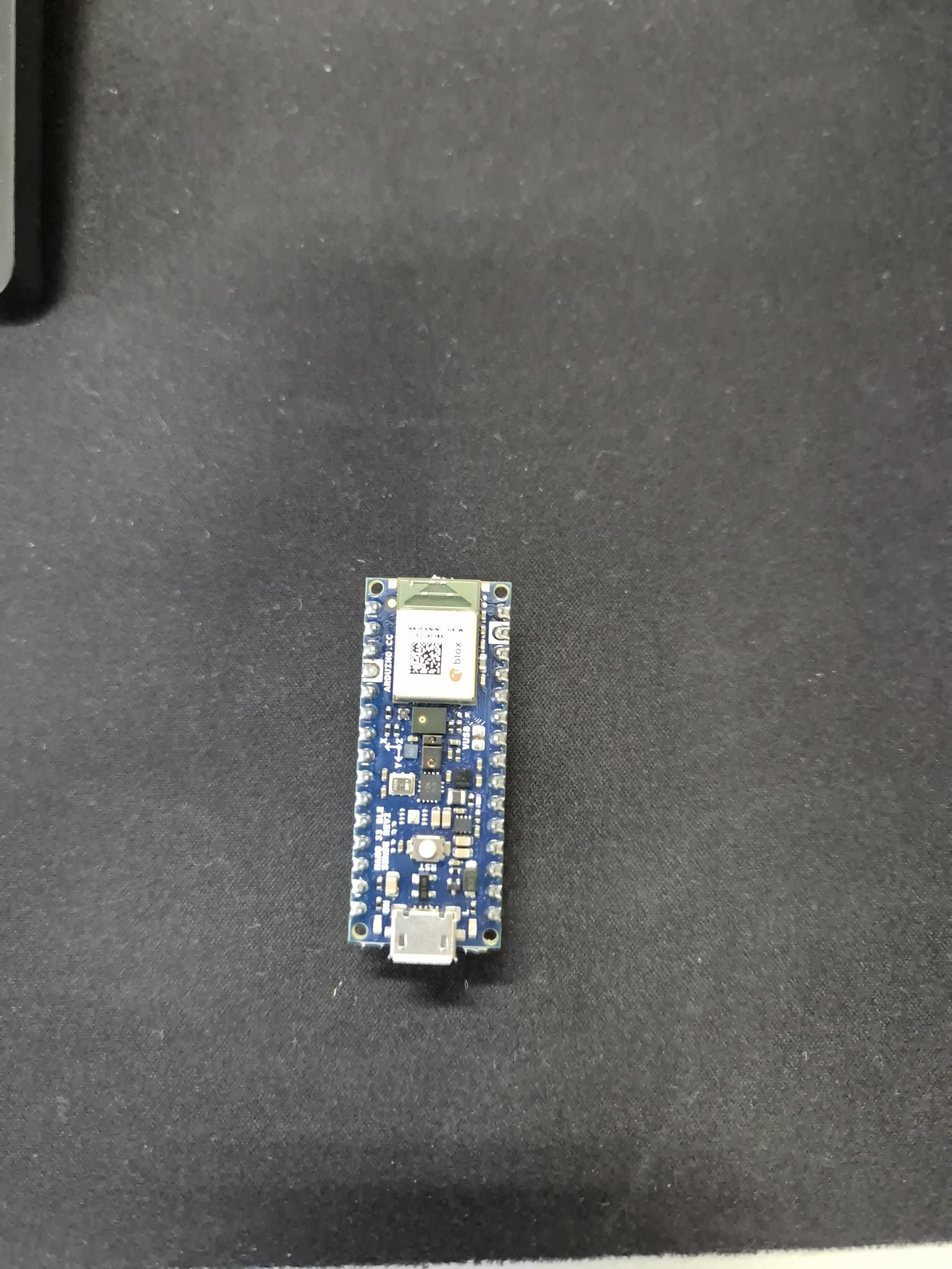arduino-nano-ble-sense: (349, 577, 511, 964)
